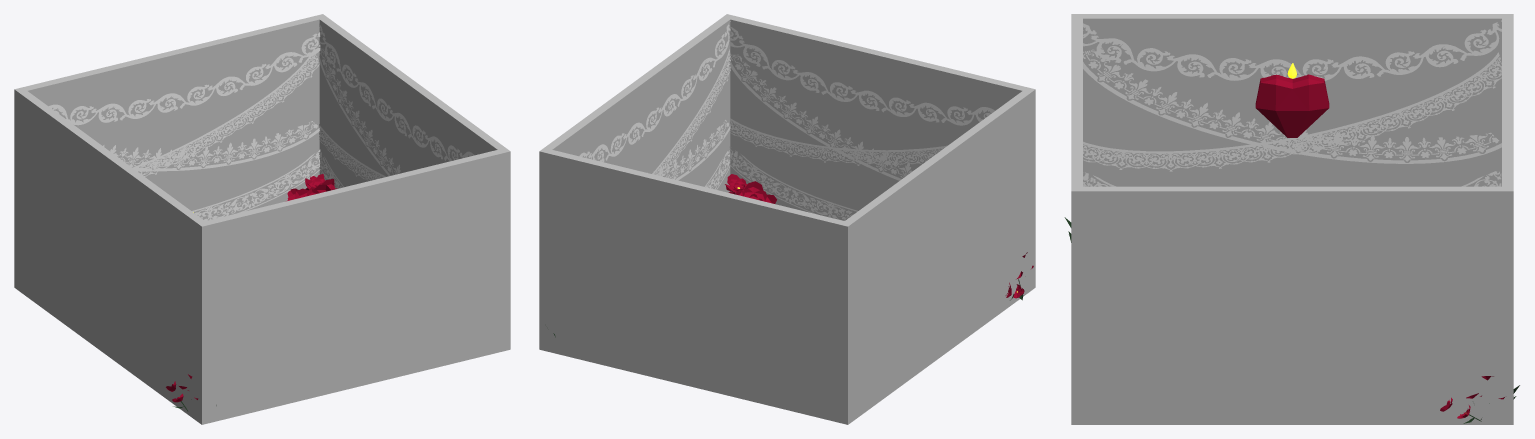
Rendered from RoomRomans.fbx.
3 views of the same model, side by side, from view 1: azimuth 30°, elevation 25°; view 2: azimuth 150°, elevation 25°; view 3: azimuth 270°, elevation 25° (orthographic). The views are drawn at different scales.
Visible parts, largest first — view 1: Walls.003, Walls.001, Laces, Laces.002, Ground, Flowers.003; view 2: Walls.001, Walls.003, Laces.002, Flowers.003, Ground; view 3: Walls.003, Walls.001, Laces, Hearth_candles, Ground.
Boxes of the visible parts, x1,y1,x2,y2 form: Walls.003: (197,17,510,424); Walls.001: (14,14,327,422); Laces: (48,32,320,220); Laces.002: (319,24,474,188); Ground: (19,284,197,421); Flowers.003: (166,174,330,411); Walls.001: (539,89,1035,424); Walls.003: (539,14,1035,351); Laces.002: (579,21,994,220); Flowers.003: (725,174,1033,300); Ground: (852,320,983,421); Walls.003: (1071,14,1513,424); Walls.001: (1083,14,1513,424); Laces: (1083,20,1501,186); Hearth_candles: (1255,63,1329,137); Ground: (1085,416,1501,424).
Bounding box in the file's own units: 476 × 276 × 489.
